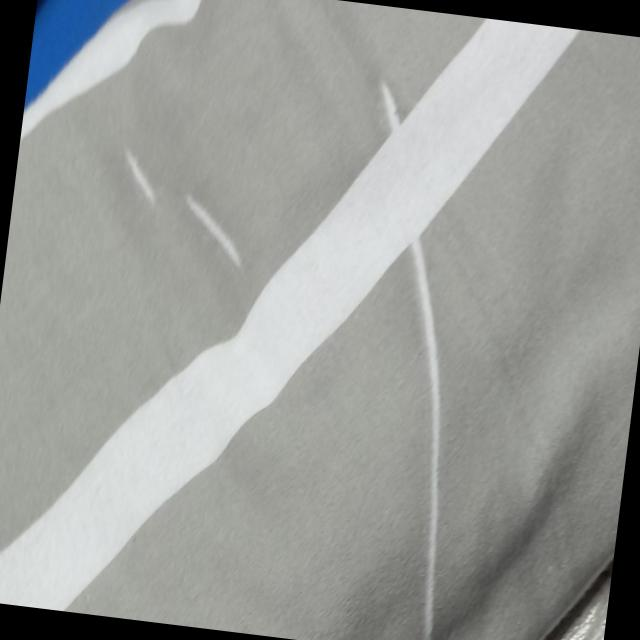selvet: (400, 406, 462, 640), (392, 240, 460, 398), (175, 194, 252, 270), (117, 144, 164, 214), (374, 82, 408, 137)
